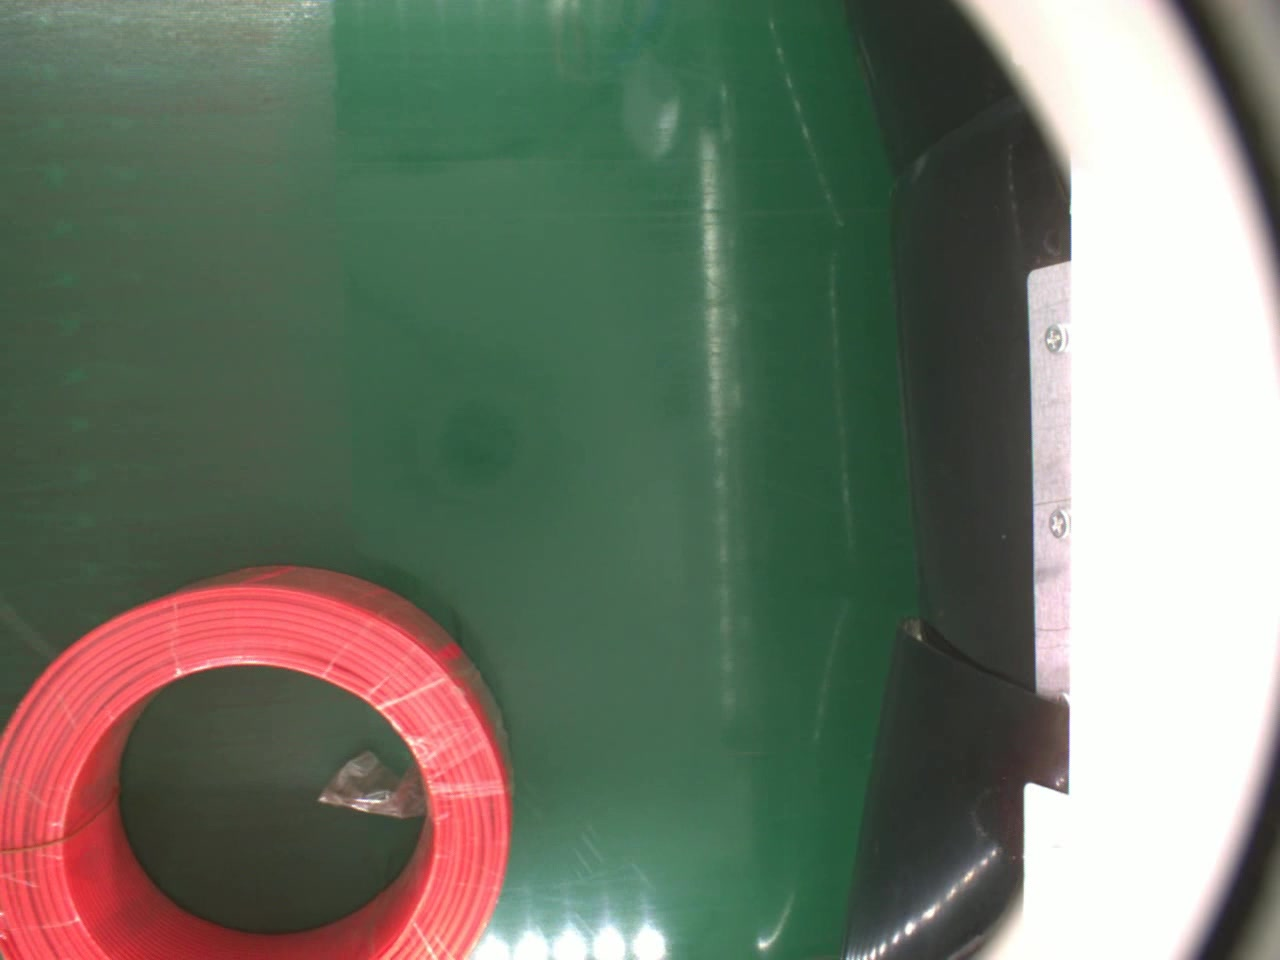red: (1, 564, 515, 960)
